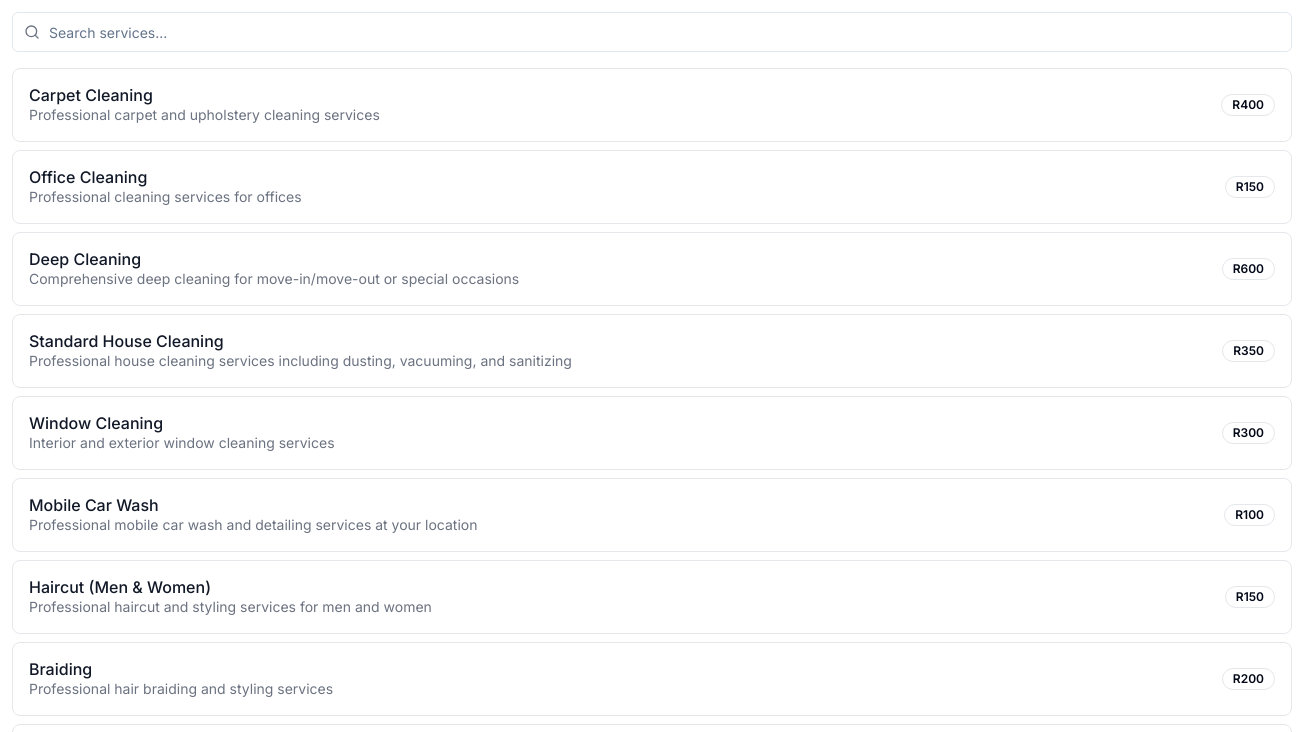
Test: ServiceSelector Component › shows no results message when search has no matches
# Search for non-existent service
Type "nonexistent service" into the field with placeholder "Search services...". click: coordinates (652, 32)
box: [12,12,1292,52]
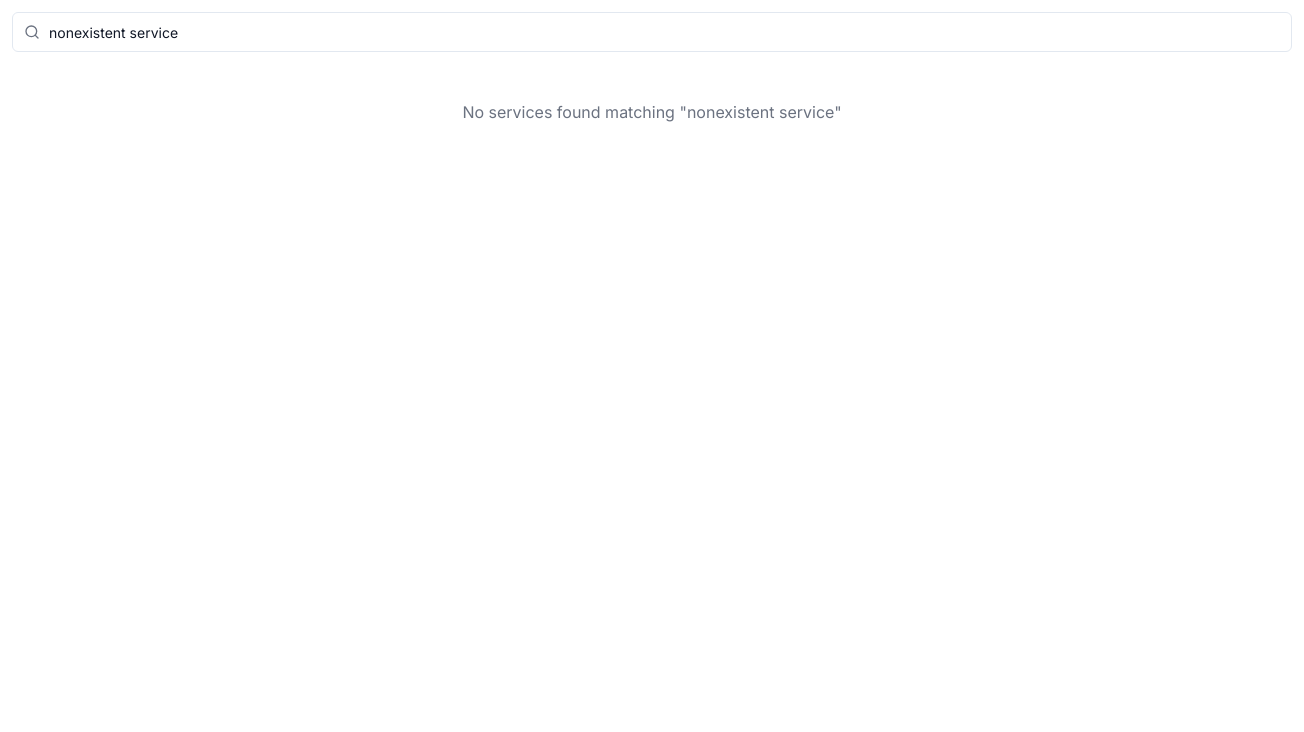
Now the text "No services found matching \"nonexistent service\"" is shown, box [462,102,842,122]
